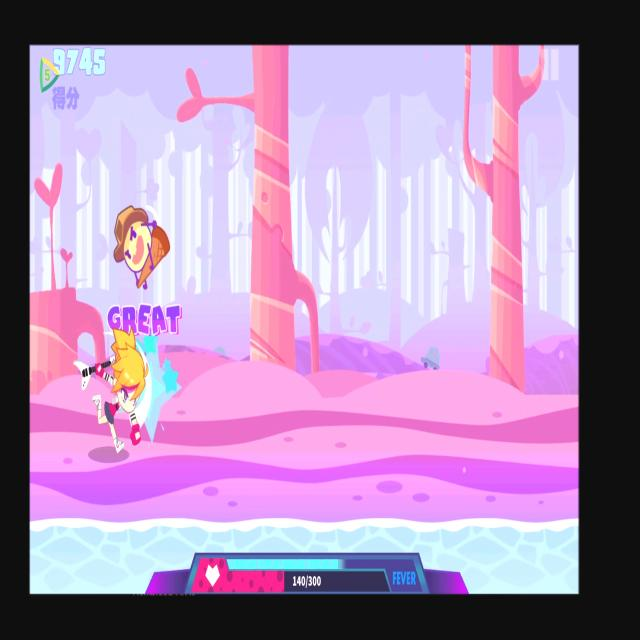qiu: (107, 199, 179, 299)
